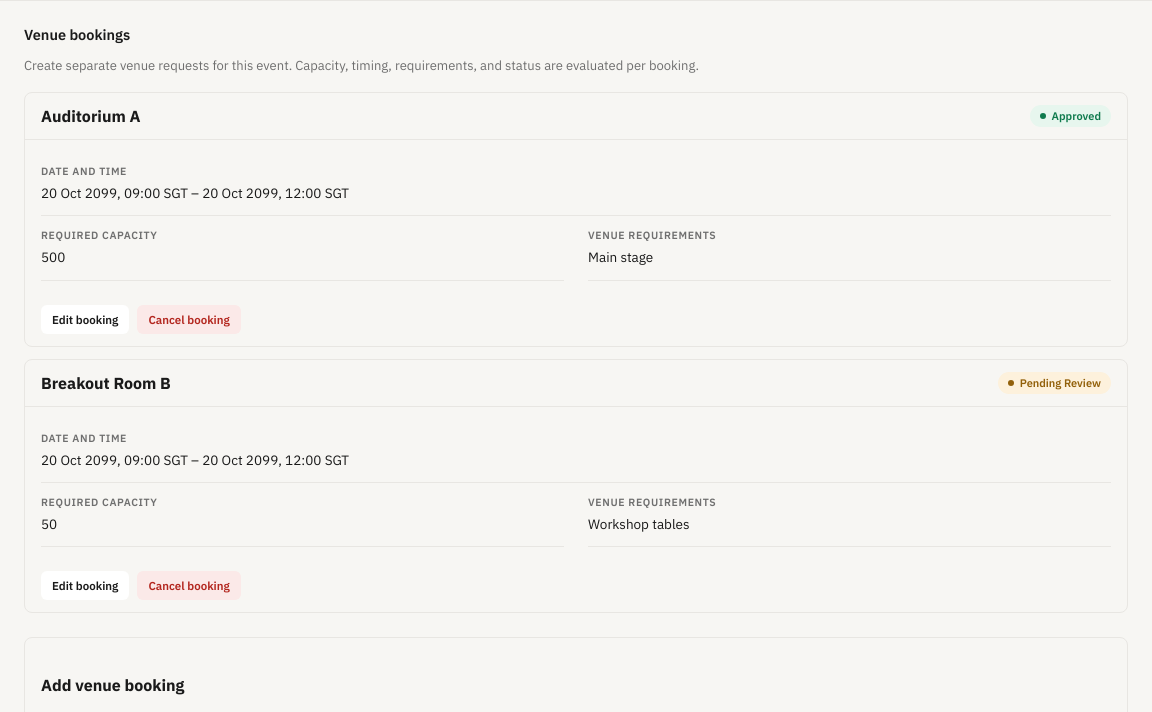
Scenario: immutable cancellation preserves an unrelated edit and submits an update, not a replacement
Expected: the text "Auditorium A" is shown, x1=41 y1=106 x2=140 y2=126
Click the button "Edit booking" below "Breakout Room B" at (85, 586), box x1=41 y1=571 x2=129 y2=600
(page scrolled)
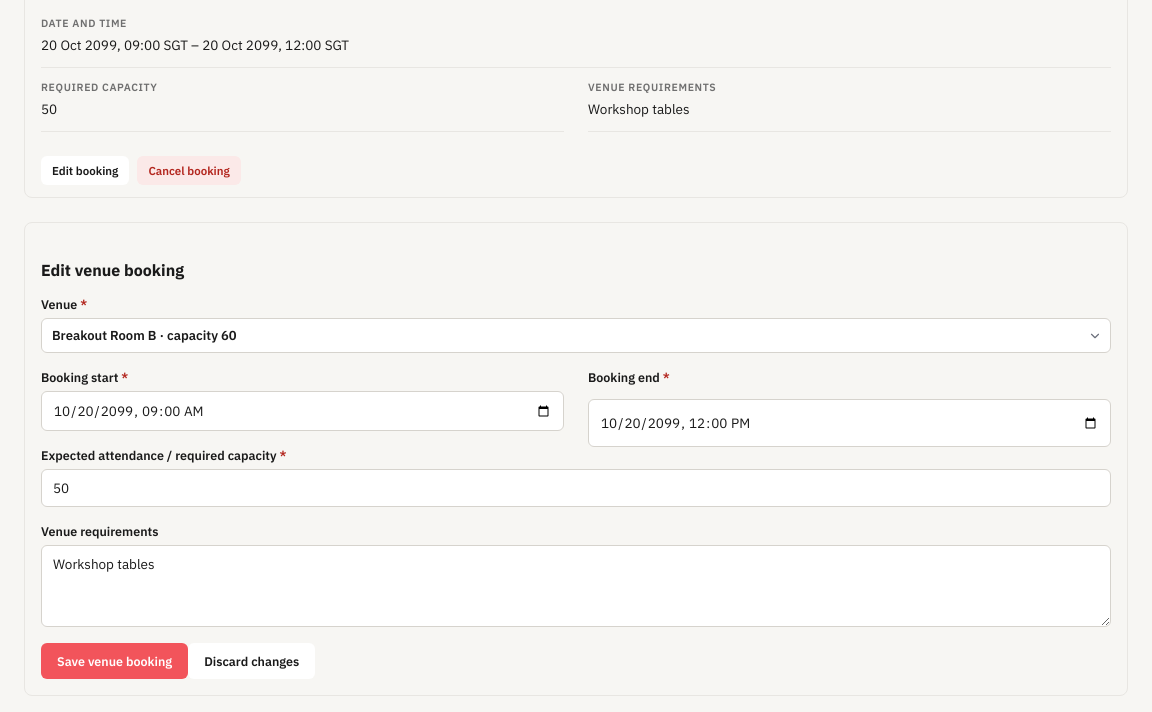
Replace the text in the text box labelled "Venue requirements" with "Keep sibling edit" at (576, 586), box x1=41 y1=545 x2=1111 y2=627
(page scrolled)
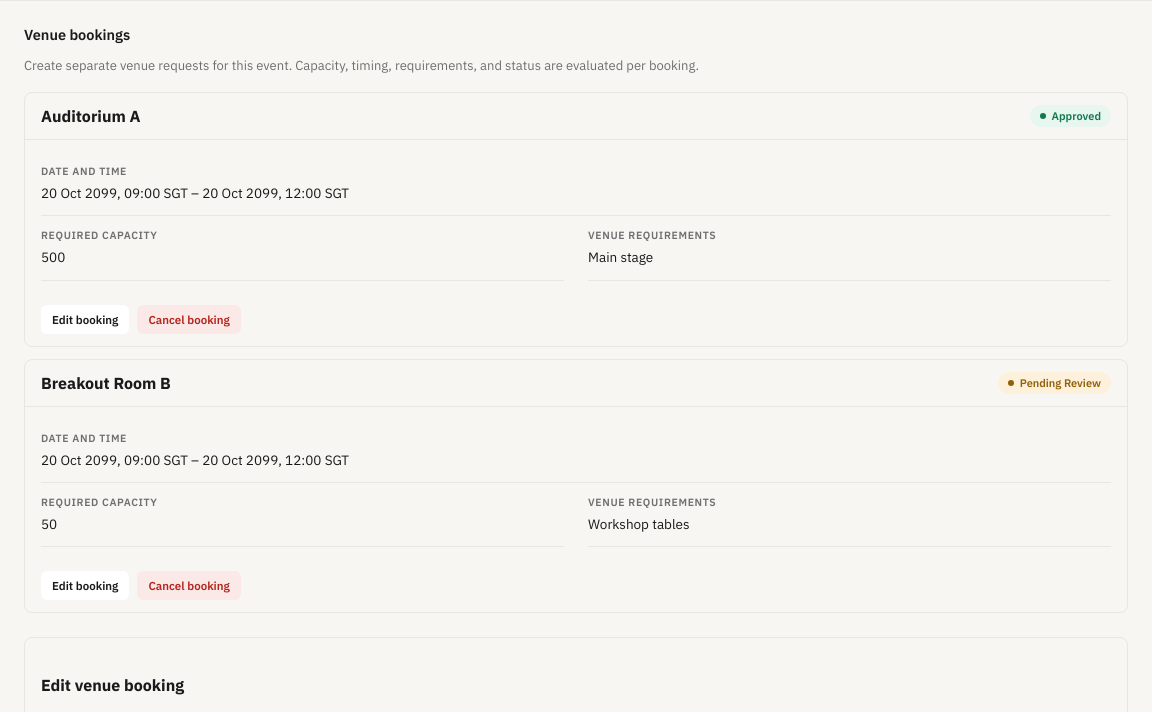
Click the button "Cancel booking" below "500" at (189, 319), box x1=137 y1=305 x2=241 y2=334
(page scrolled)
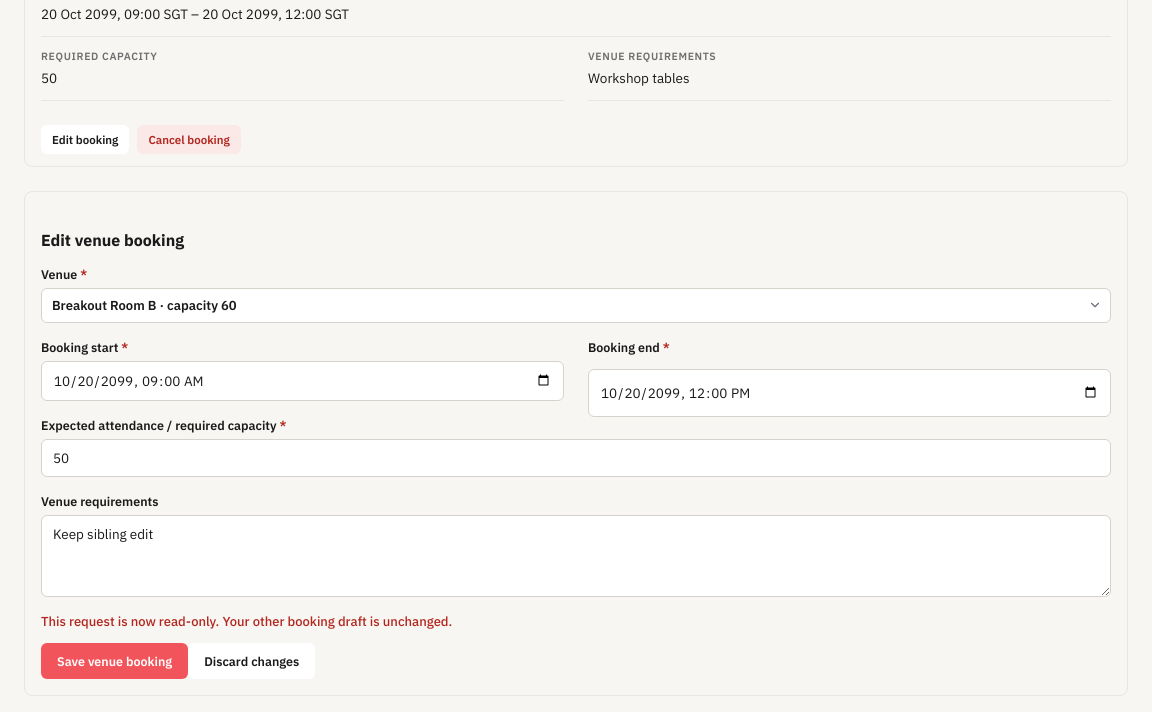
Expected: the heading "Edit venue booking" is shown, x1=41 y1=230 x2=184 y2=250
Expected: the message reads "This request is now read-only. Your other booking draft is unchanged.", x1=41 y1=613 x2=452 y2=630
Click the button "Save venue booking" at (115, 661), box x1=41 y1=643 x2=188 y2=679
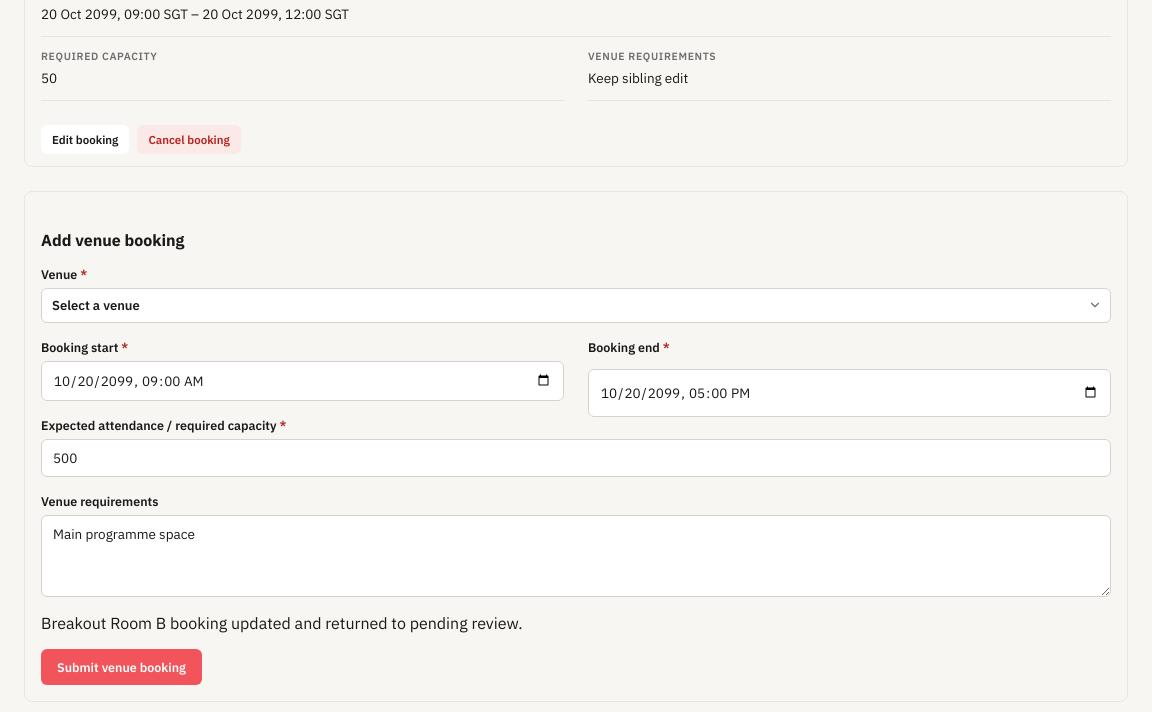
Expected: the text "Breakout Room B booking updated and returned to pending review." is shown, x1=41 y1=613 x2=523 y2=633
